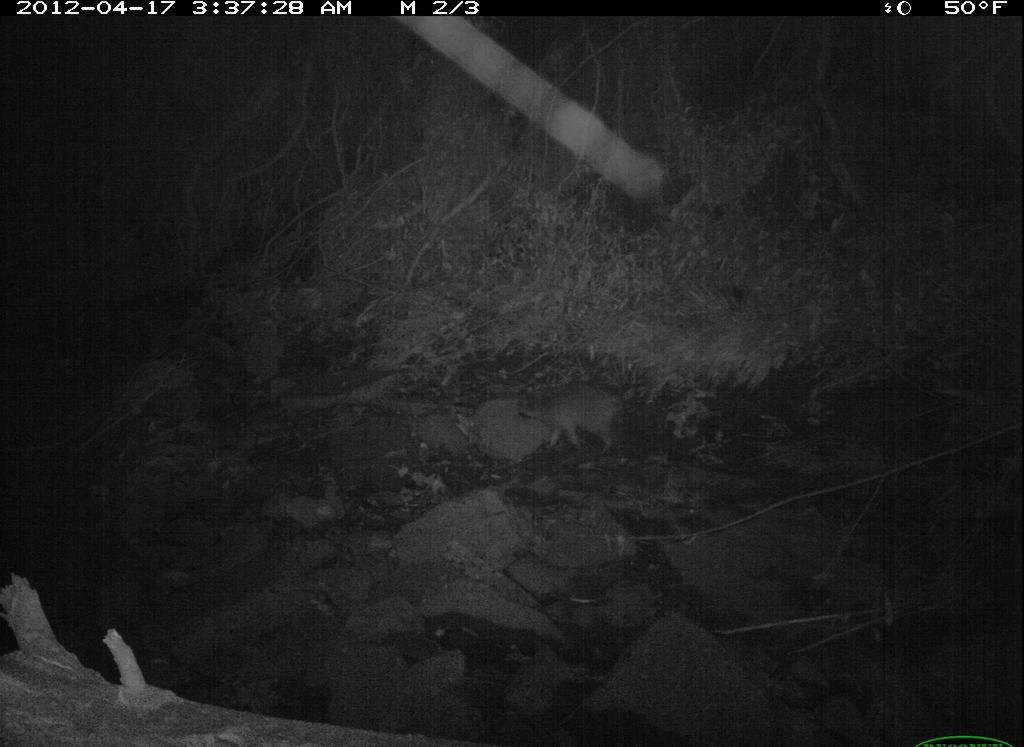raccoon: (501, 378, 637, 454)
